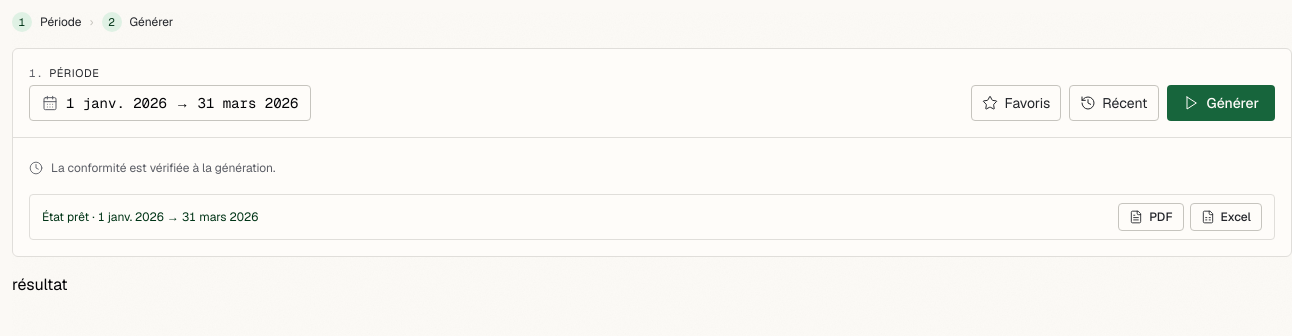
it: ReportRunner — export › affiche un message d’erreur si l’export échoue (404) — plus de rejet silencieux
Click the button "PDF": (1151,217) [1118,203,1184,231]
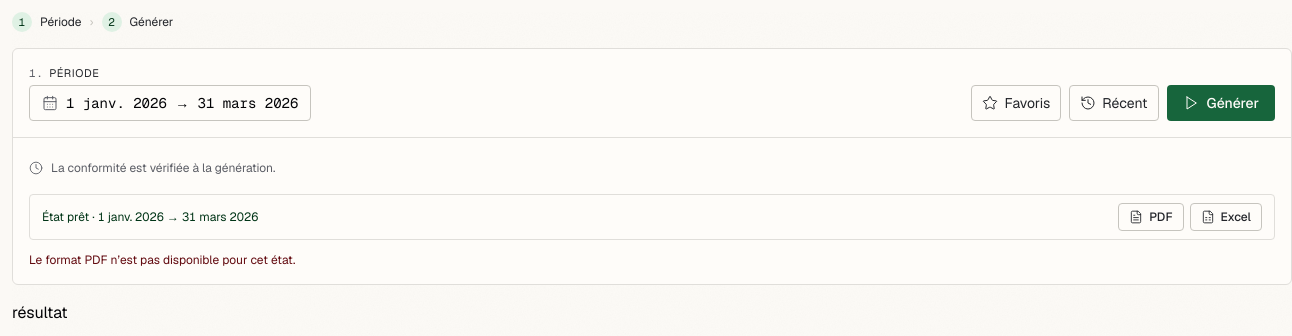
Expected: the message shows "n’est pas disponible", [29,252,295,268]
